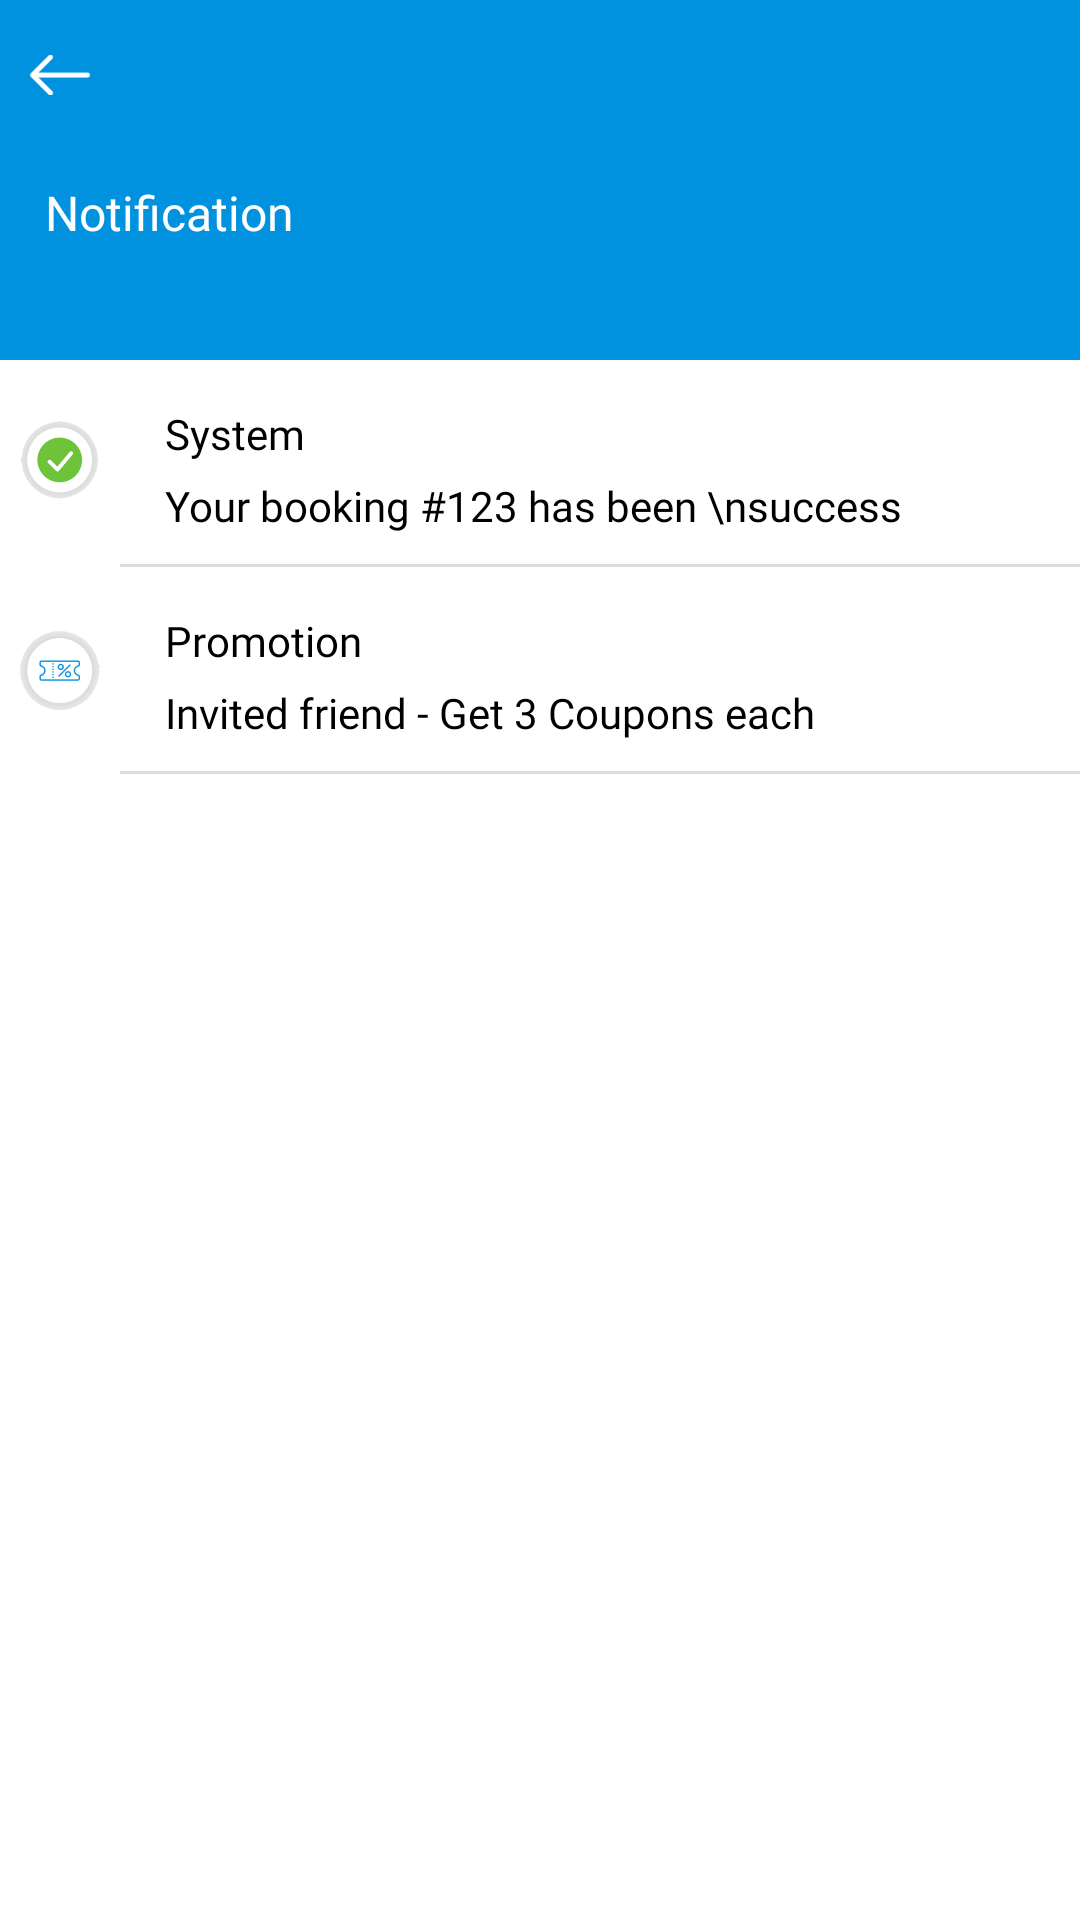

Icon bounding boxes for this 1080px×1920px phone screenshot, format (x1, y1, x2, y2):
back: (30, 55, 90, 95)
price: (20, 631, 99, 710)
rightgreen: (21, 422, 98, 498)
